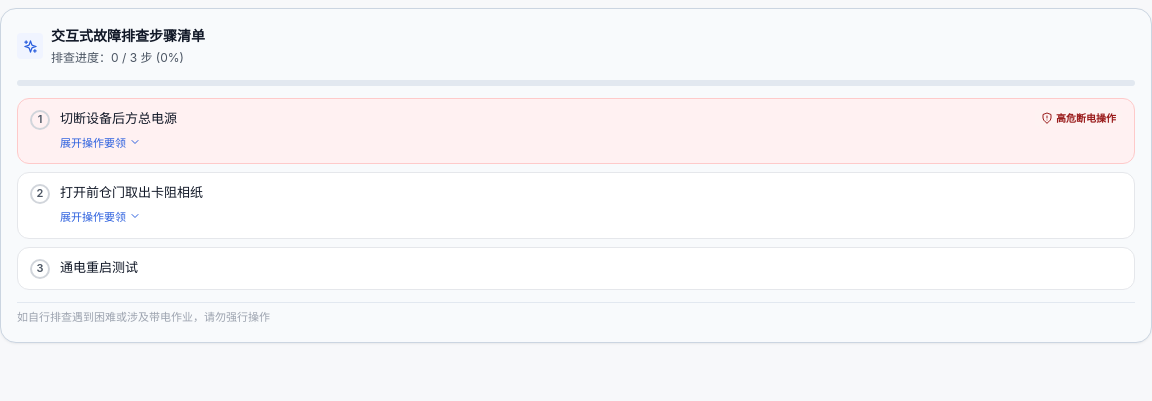
it: Tier 1 & 2 Component: Interactive Checkbox Troubleshoot Card (F-09 / F-10) › T1-TRB-03: expands and collapses step operational details
Expected: the text "请从墙壁插座彻底拔下电源线" is not shown
Click the button "展开操作要领" below "切断设备后方总电源". click: coordinates (100, 142)
box: x1=60 y1=132 x2=141 y2=152
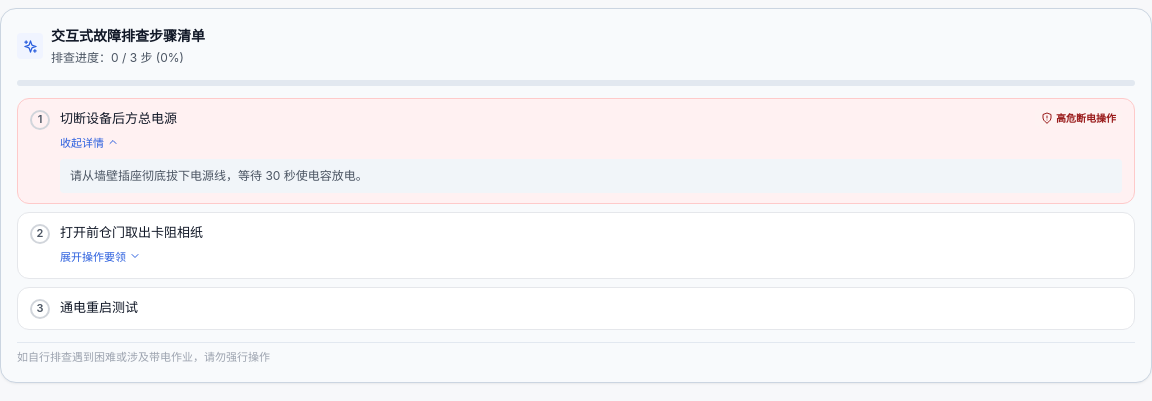
Now the text "请从墙壁插座彻底拔下电源线，等待 30 秒使电容放电。" is shown, box x1=60 y1=159 x2=1122 y2=193
Click the button "收起详情". click: coordinates (90, 142)
box: x1=60 y1=132 x2=119 y2=152
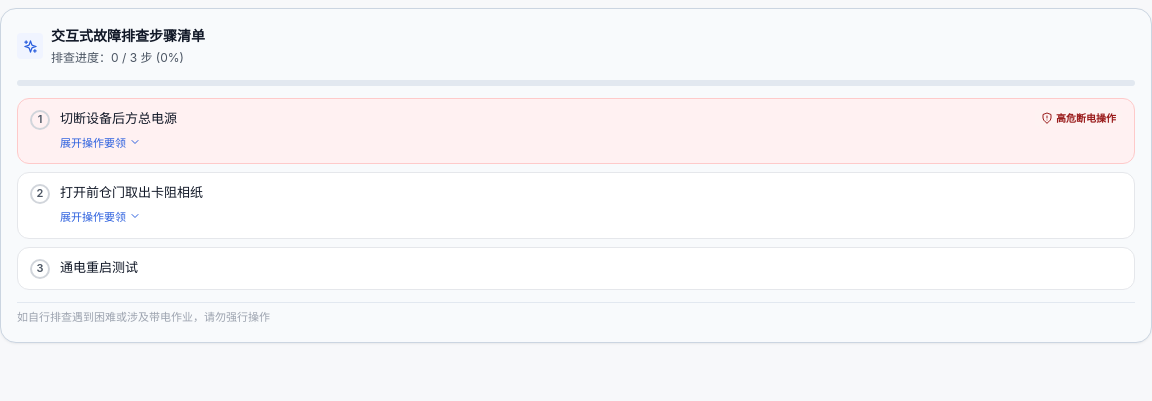
Now the text "请从墙壁插座彻底拔下电源线" is gone
